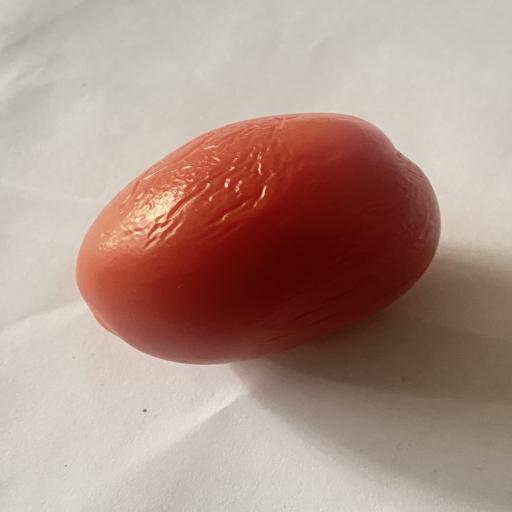spoiled: (76, 113, 440, 363)
